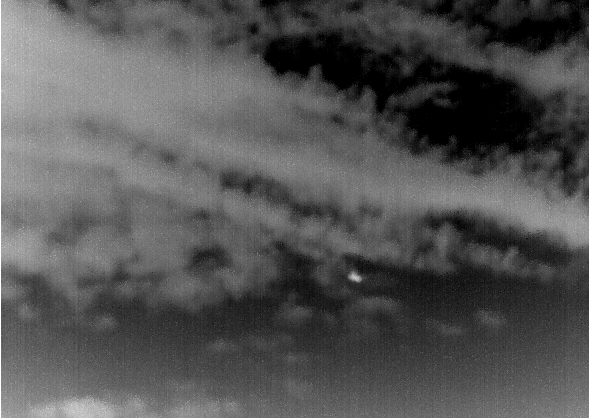dim target: (348, 269, 362, 283)
